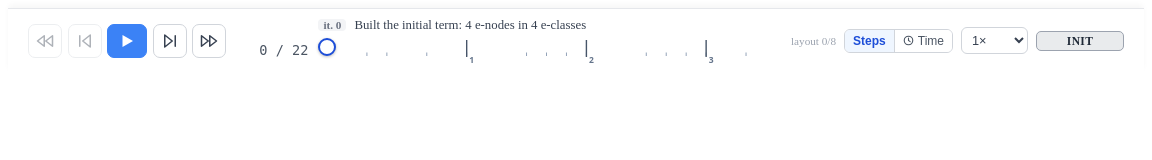
Test: Controller › steps through the timeline and narrates each step
The width and height of the screenshot is (1152, 160).
Expected: the button named "Previous step" is disabled, x1=68 y1=24 x2=102 y2=58
Expected: the text "Built the initial term: 4 e-nodes in 4 e-classes" is shown, x1=354 y1=18 x2=586 y2=32
Click the button named "Next step" at (170, 41), box x1=153 y1=24 x2=187 y2=58
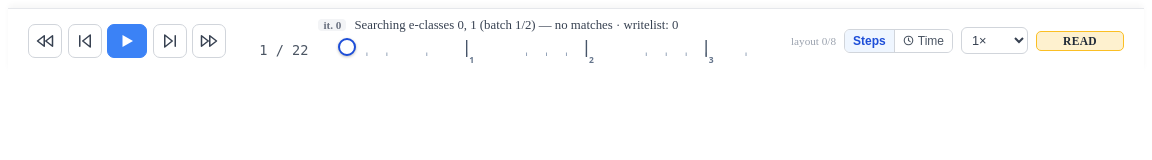
Expected: the text "Searching e-class" is shown, x1=354 y1=18 x2=678 y2=32
Click the button named "Next phase" at (209, 41), box x1=192 y1=24 x2=226 y2=58
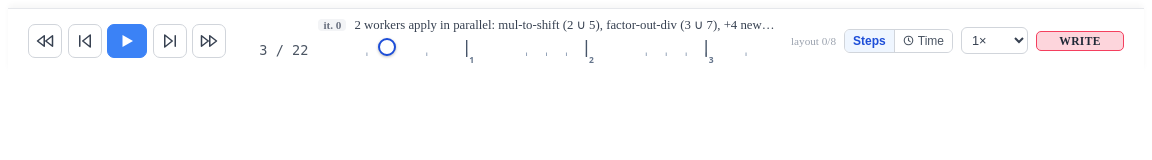
Expected: the text "2 workers apply in parallel: mul-to-shift" is shown, x1=354 y1=18 x2=896 y2=32
